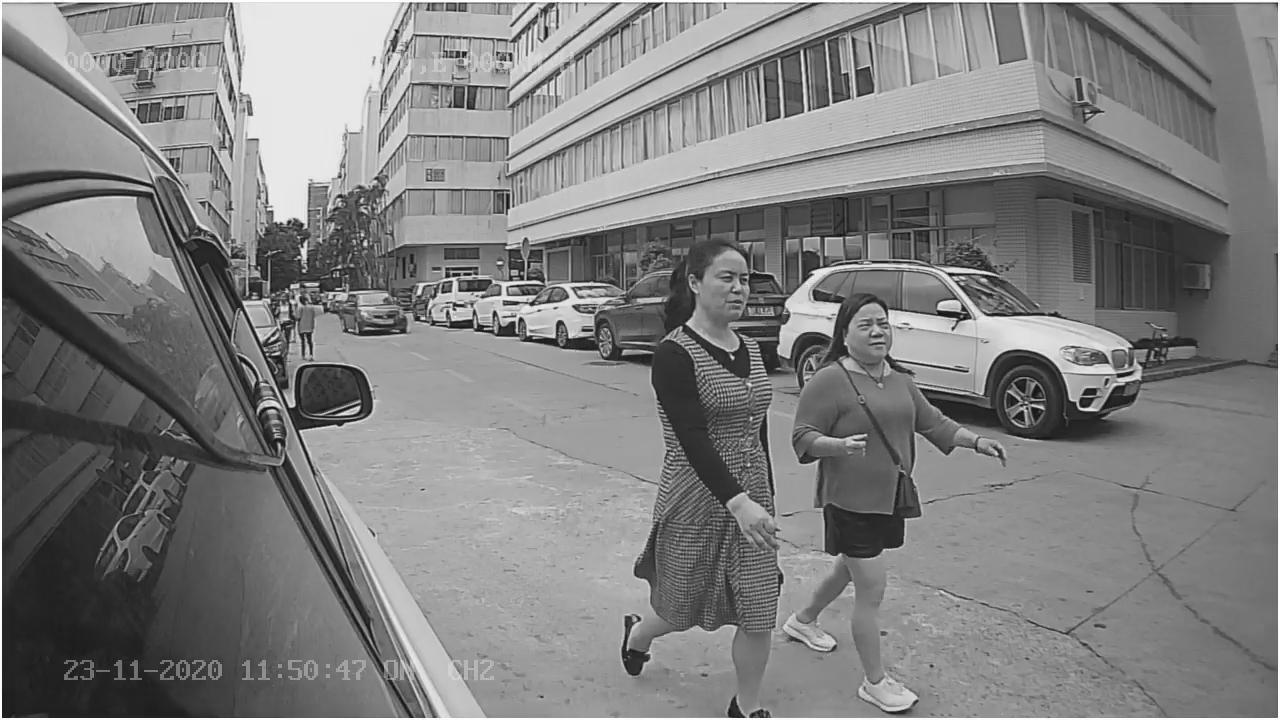person: (795, 296, 1003, 708), (621, 236, 787, 711)
